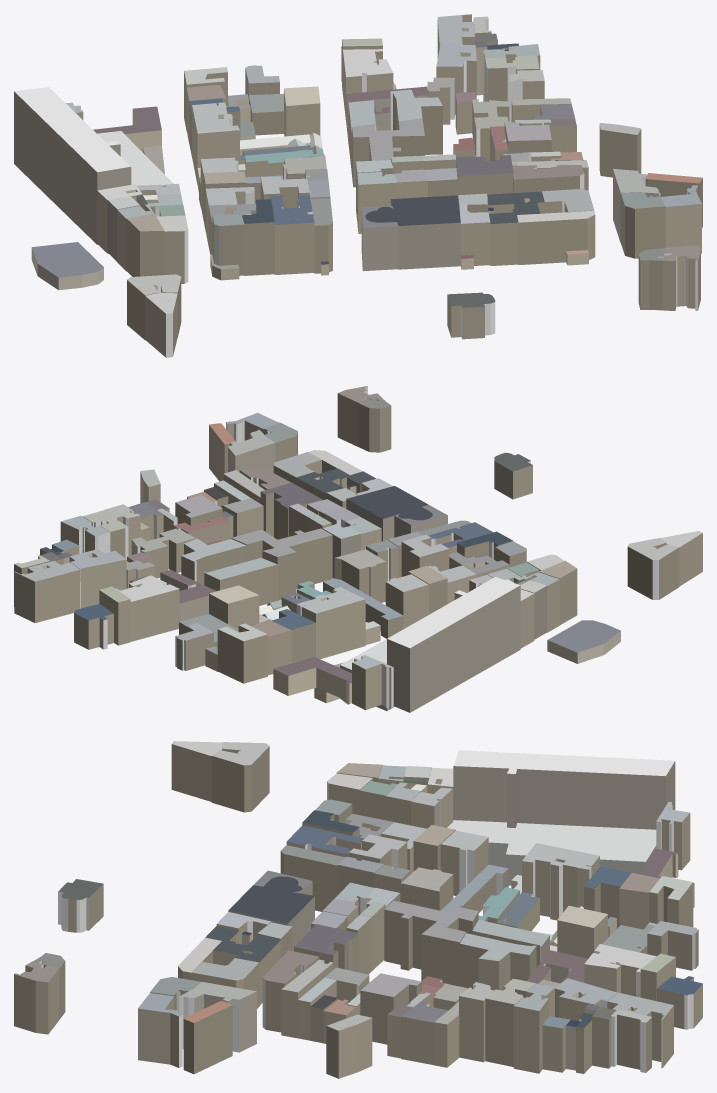
3 views of the same model, one above another, from view 1: azimuth 30°, elevation 25°; view 2: azimuth 150°, elevation 25°; view 3: azimuth 270°, elevation 25° (orthographic). The views are drawn at different scales.
Visible parts, largest first — view 1: tuile; view 2: tuile; view 3: tuile.
Part boxes in pixels (bbox=[...]): tuile: bbox=[14, 14, 702, 357]; tuile: bbox=[14, 386, 702, 712]; tuile: bbox=[14, 741, 702, 1078].
Size of the model in its own units: 262 by 45.27 by 267.
